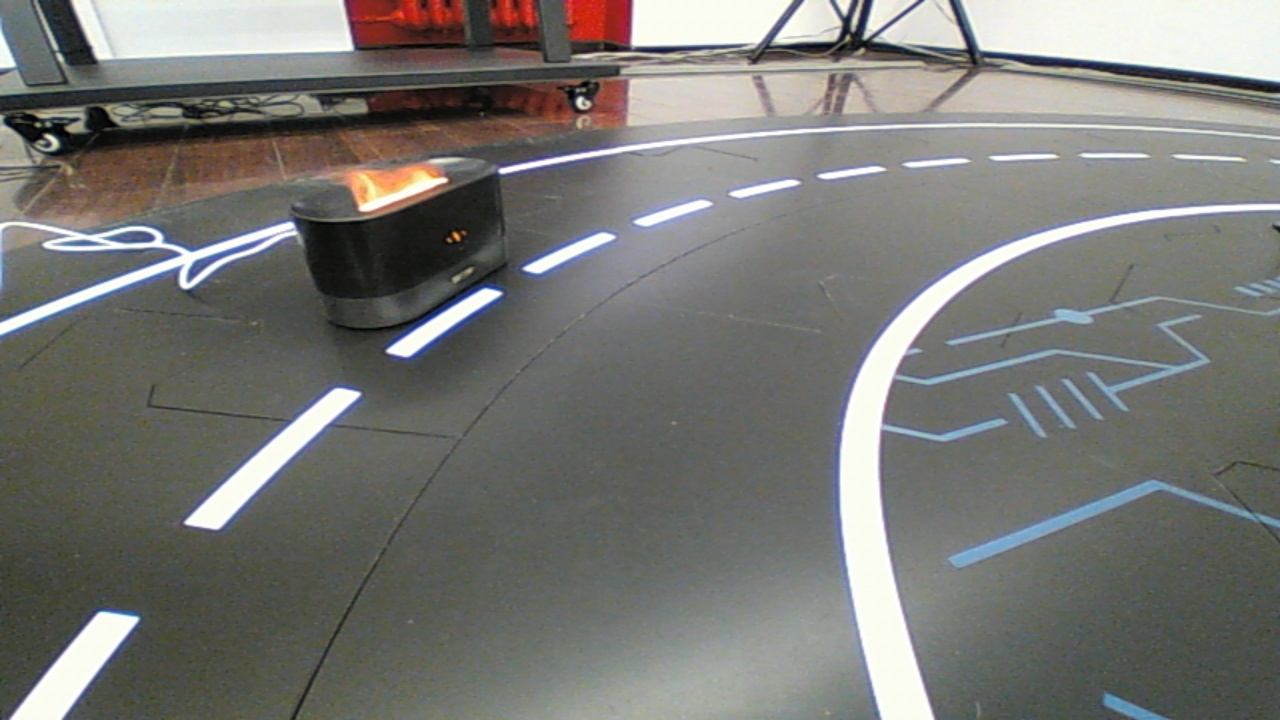Movement prohibition: (261, 145, 540, 336)
